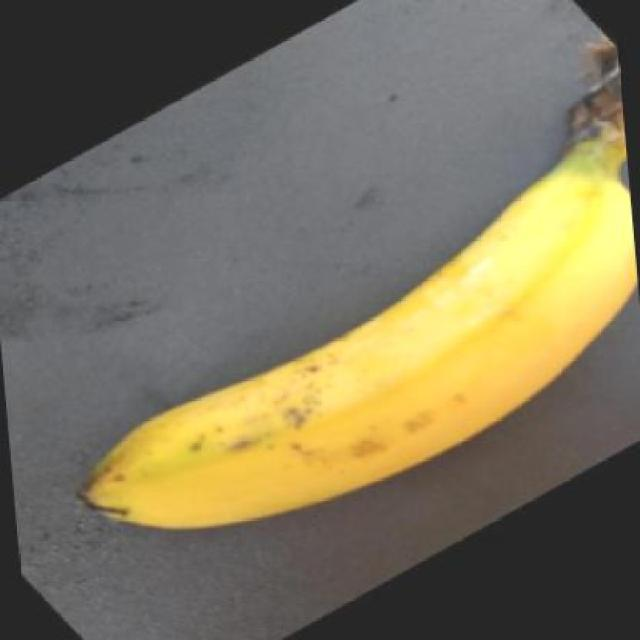Ripe: (48, 63, 640, 543)
